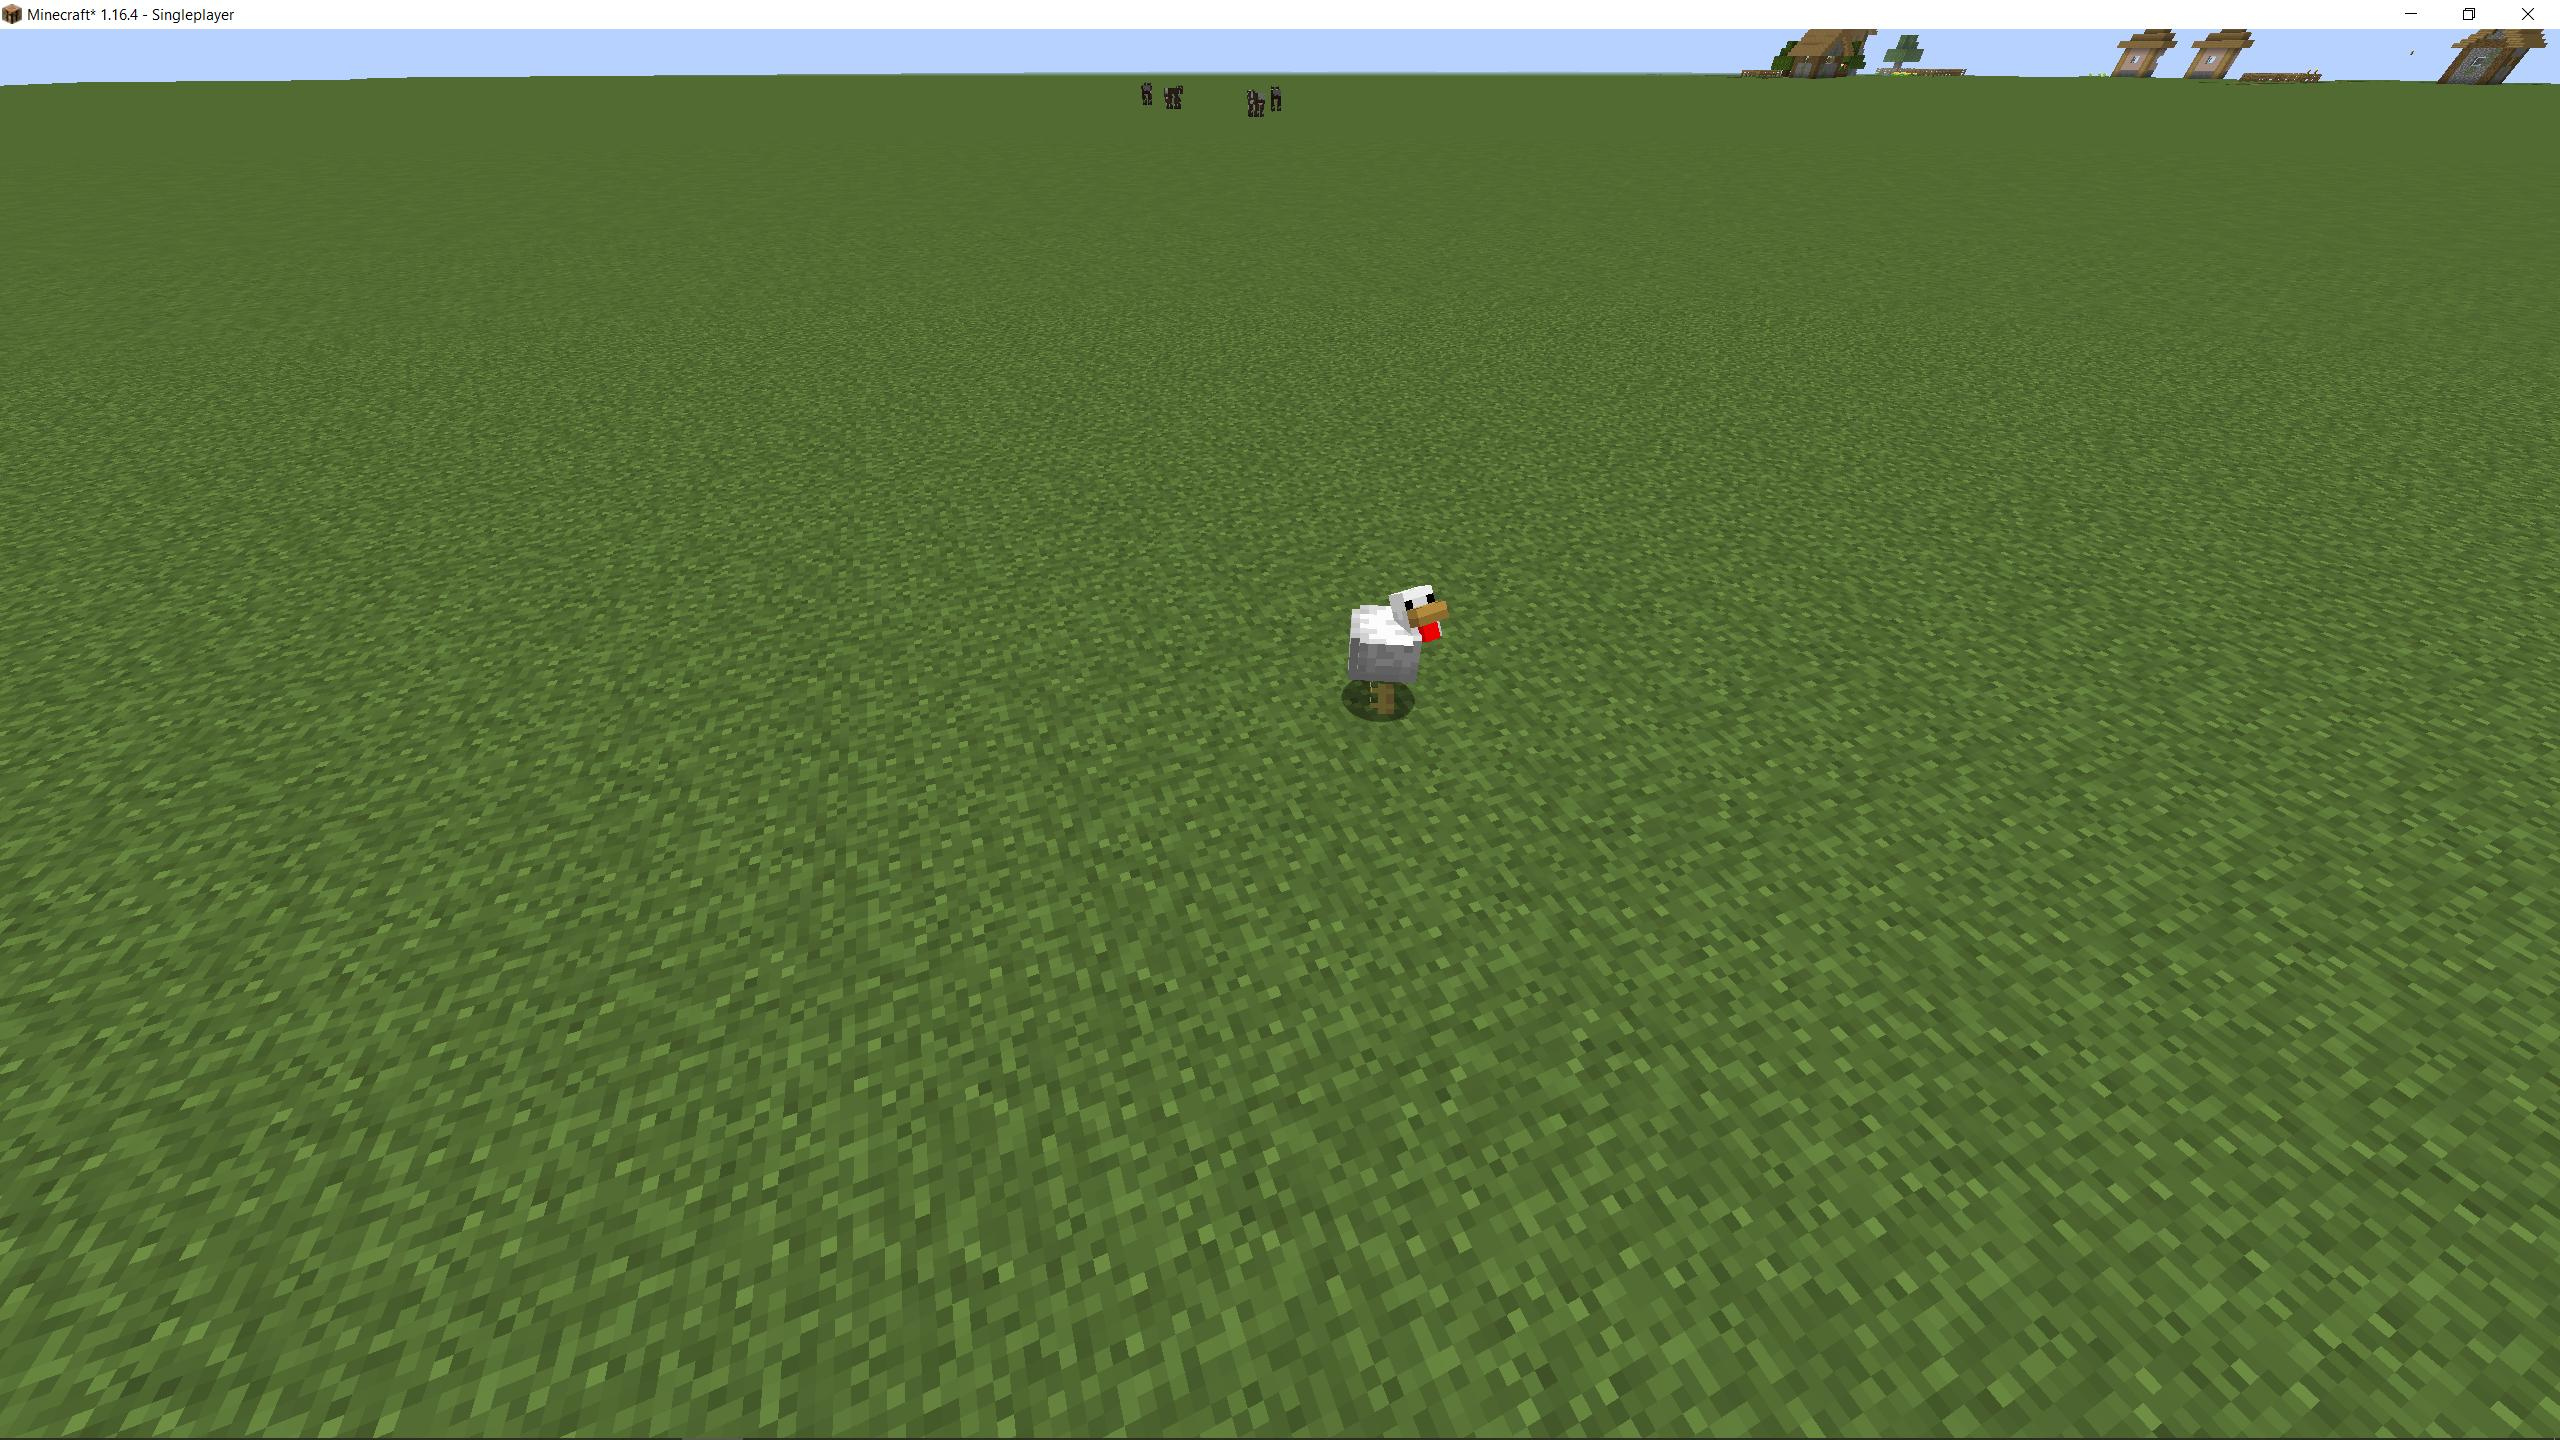chicken: (1343, 577, 1452, 724)
